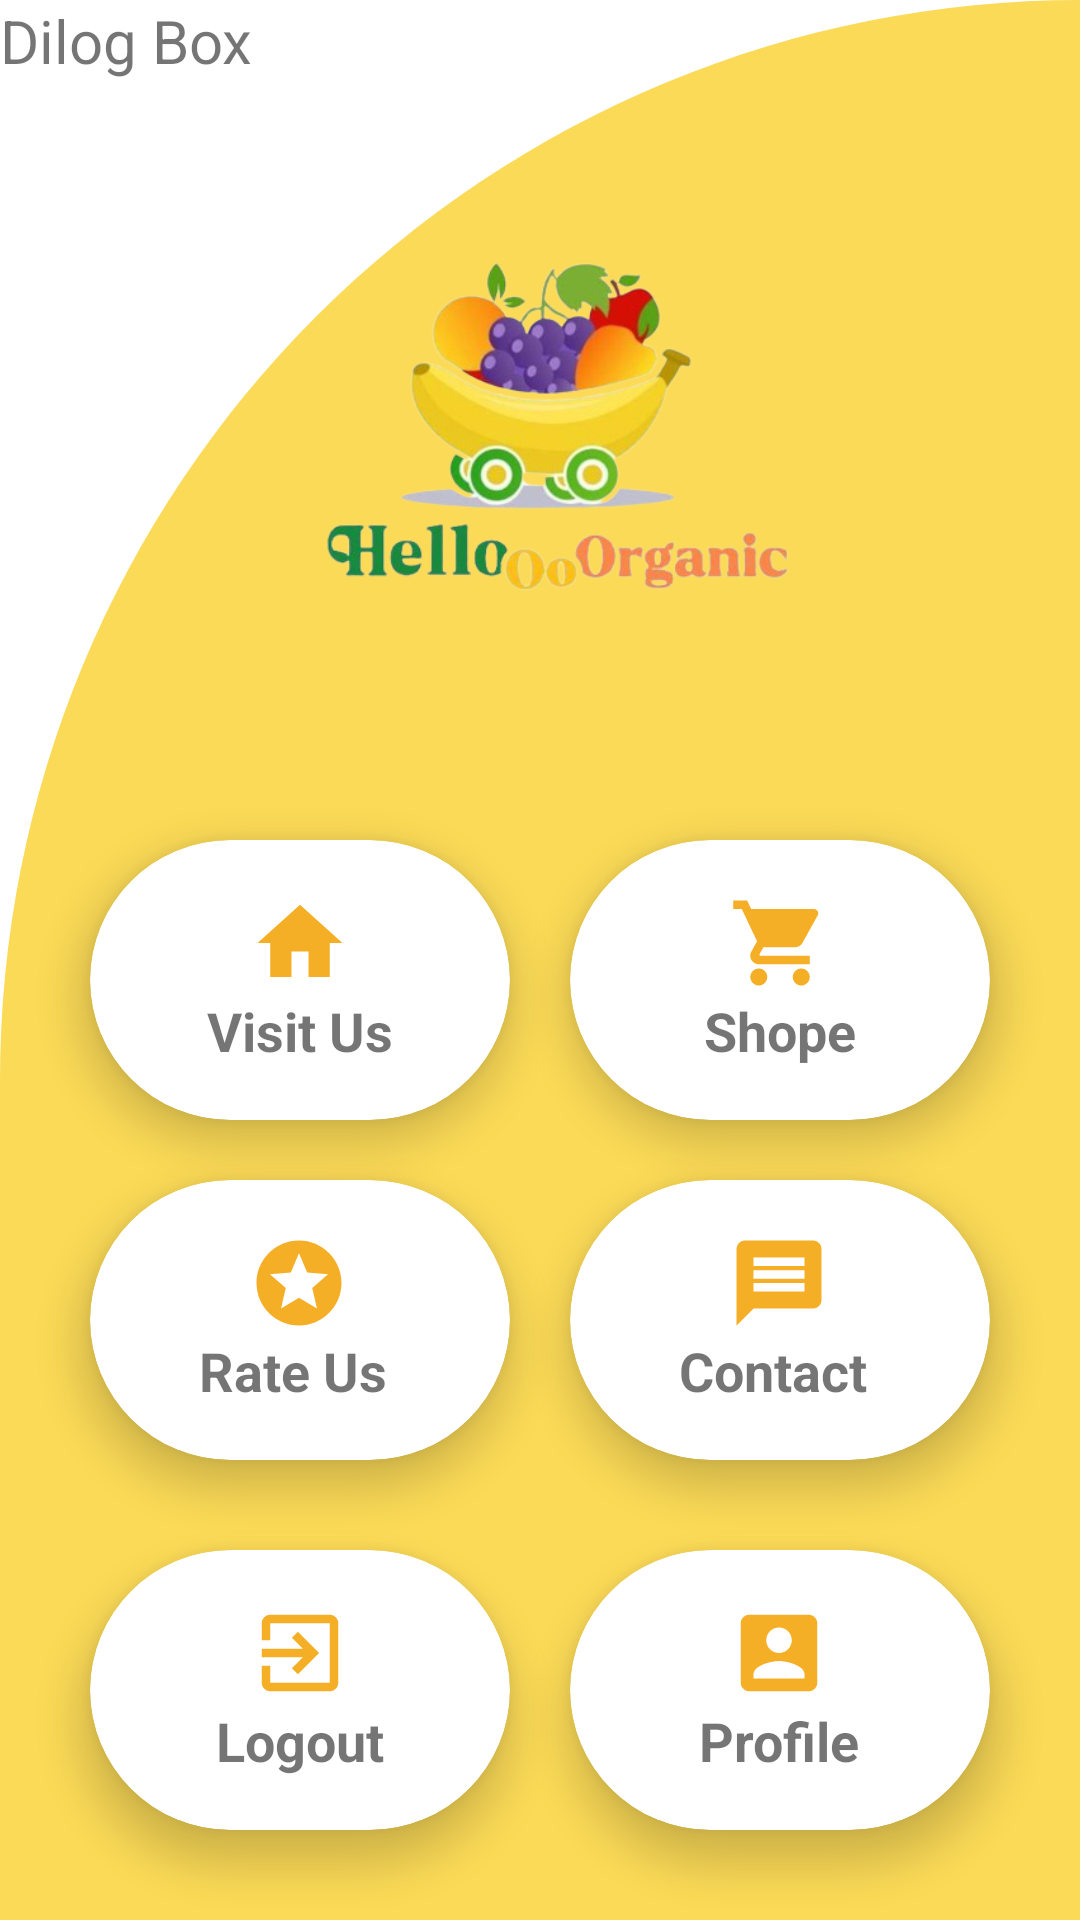

Where icons sit on this 1080px×1920px app screen, as (x1, y1, x2, y2):
account box: (740, 1614, 818, 1692)
exit to app: (261, 1614, 339, 1692)
home: (258, 905, 342, 977)
message: (736, 1240, 822, 1326)
shopping cart: (733, 900, 819, 986)
stars: (256, 1240, 342, 1326)
